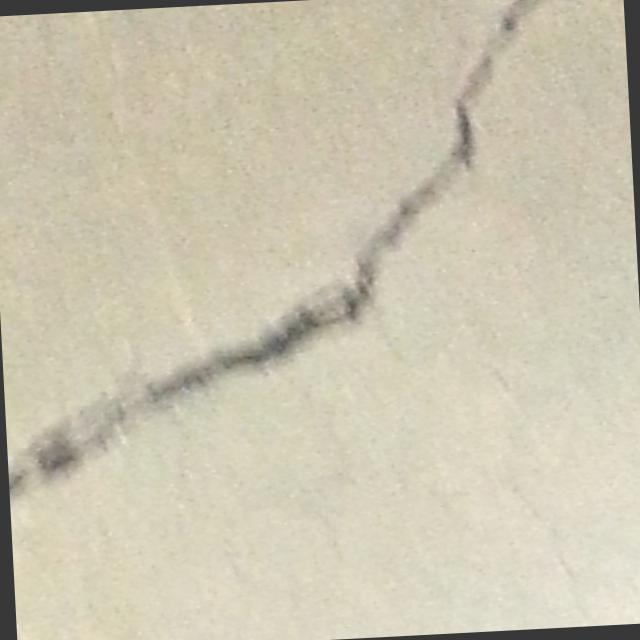crack: (290, 0, 575, 338), (2, 302, 314, 506)
